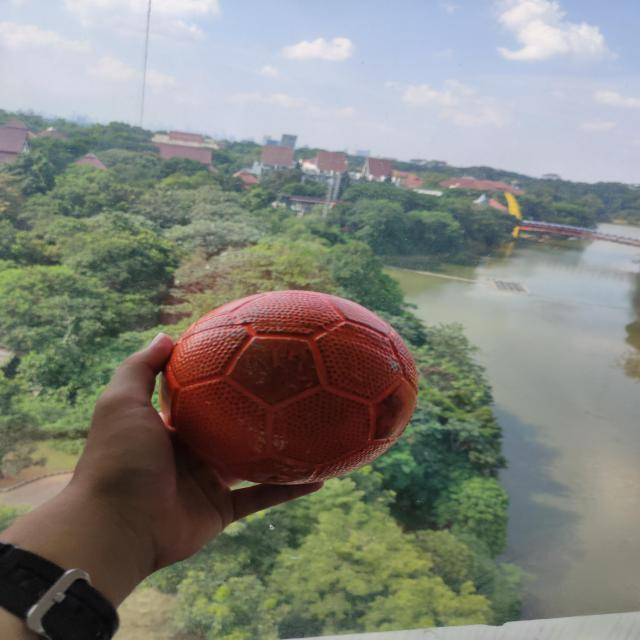bola: (147, 275, 434, 500)
